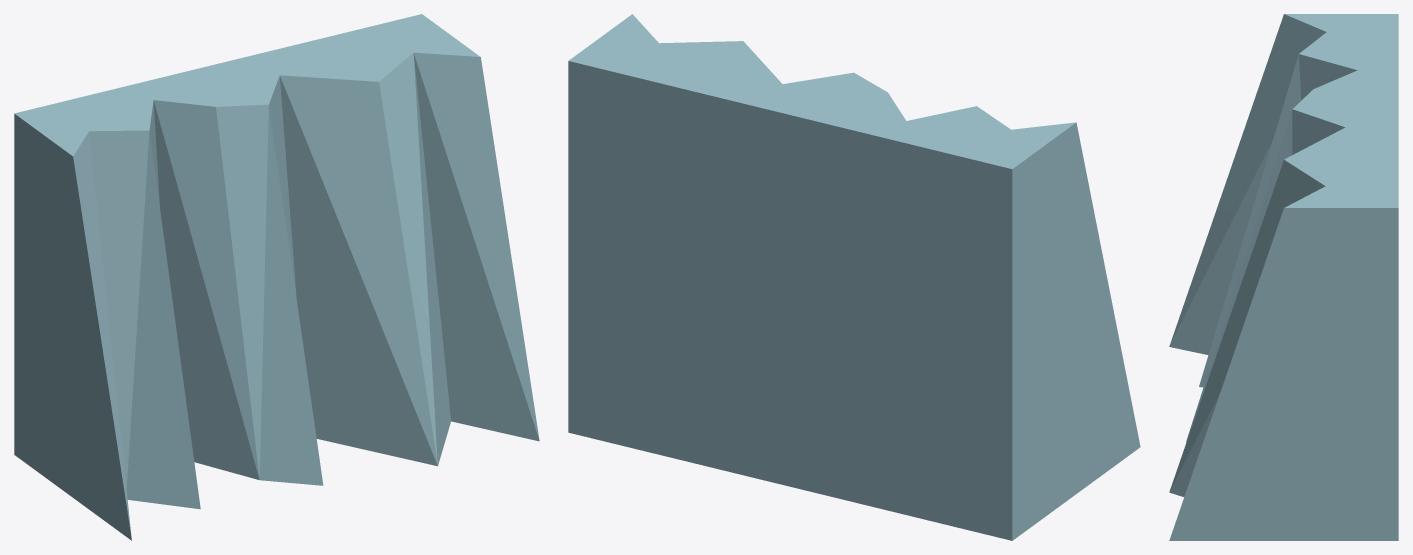
File: Terrain_Modular_Tiles_Ice_Cliff_Side_Outer_02.fbx
3 renders of one model, left to right at view 1: azimuth 30°, elevation 25°; view 2: azimuth 150°, elevation 25°; view 3: azimuth 270°, elevation 25°, orthographic. The views are drawn at different scales.
Parts seen in each view (by area): view 1: Terrain_Modular_Tiles_Ice_Cliff_Side_Outer_02; view 2: Terrain_Modular_Tiles_Ice_Cliff_Side_Outer_02; view 3: Terrain_Modular_Tiles_Ice_Cliff_Side_Outer_02.
Part boxes in pixels (bbox=[...]): Terrain_Modular_Tiles_Ice_Cliff_Side_Outer_02: bbox=[14, 14, 539, 540]; Terrain_Modular_Tiles_Ice_Cliff_Side_Outer_02: bbox=[568, 14, 1140, 540]; Terrain_Modular_Tiles_Ice_Cliff_Side_Outer_02: bbox=[1169, 14, 1398, 540].
Bounding box in the file's own units: 3000 × 2400 × 1500.
